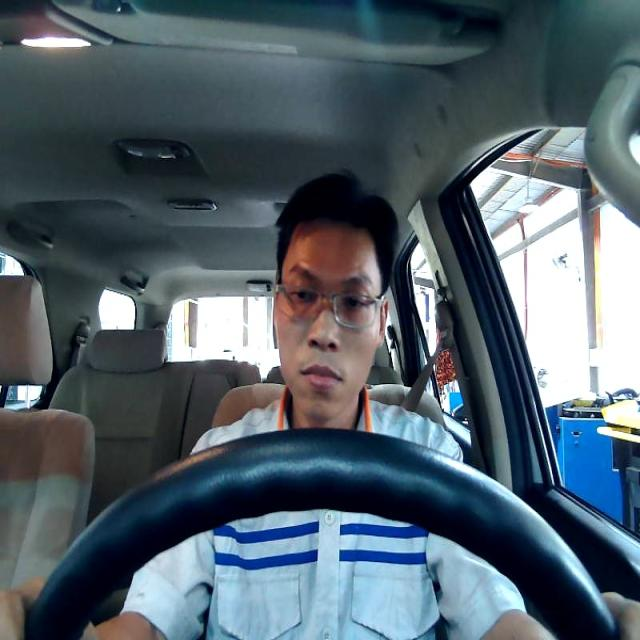focused: (270, 221, 388, 419)
